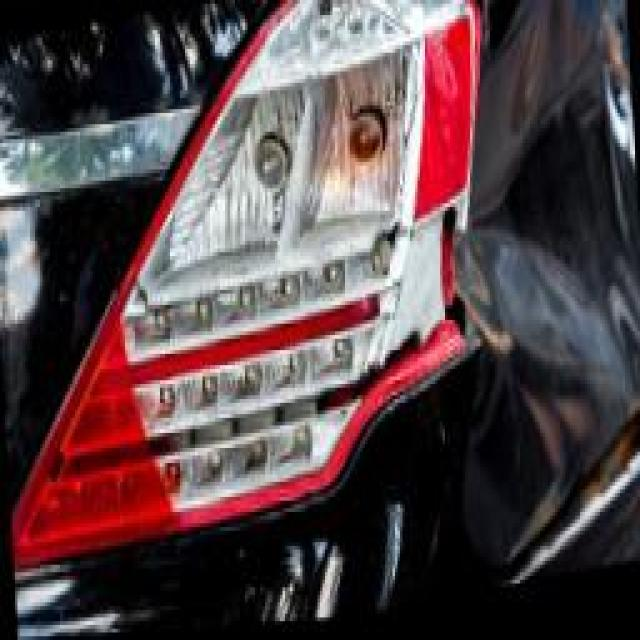Bumper: (12, 459, 640, 639)
Fender: (475, 0, 640, 457)
Light: (35, 0, 488, 540)
